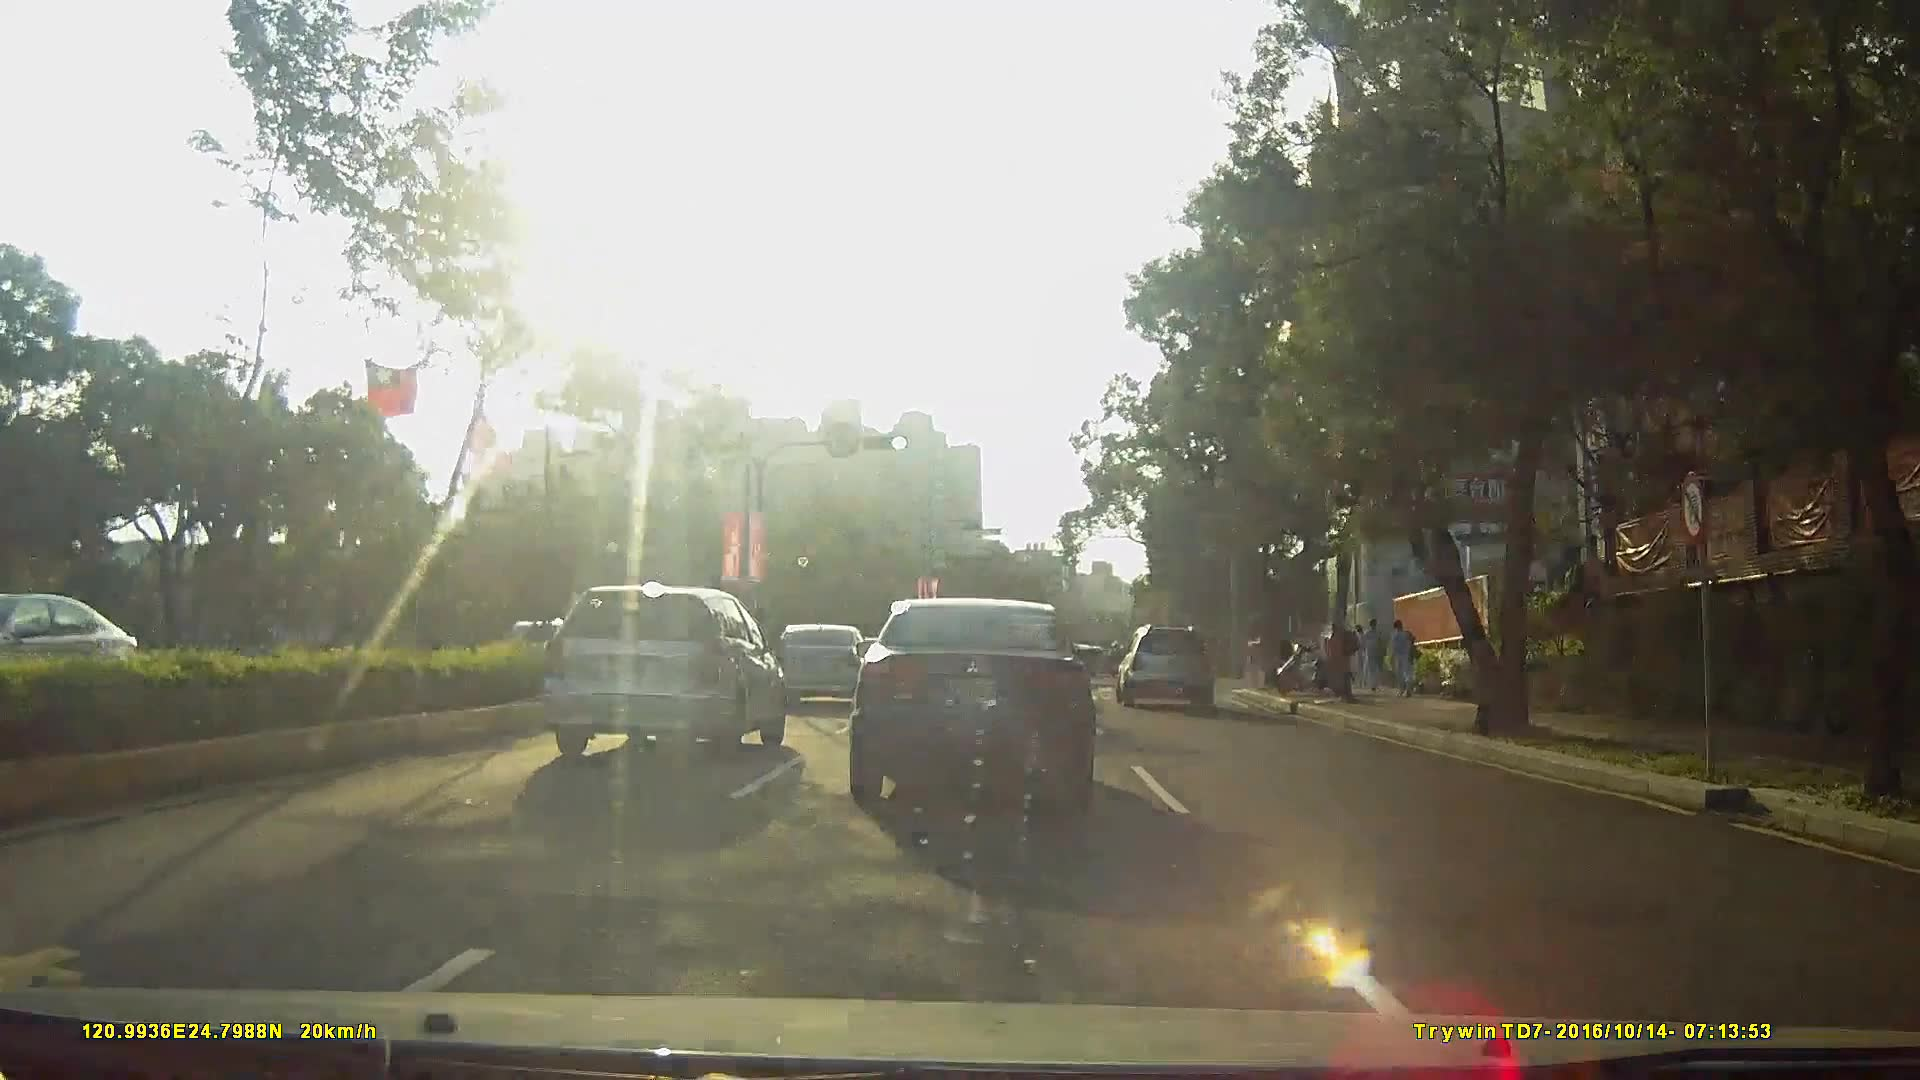pedestrian: (1388, 616, 1421, 700), (1364, 613, 1393, 693)
vehicle: (845, 594, 1094, 812), (539, 581, 787, 760), (1, 586, 150, 705), (1113, 622, 1225, 711), (773, 618, 877, 709)
